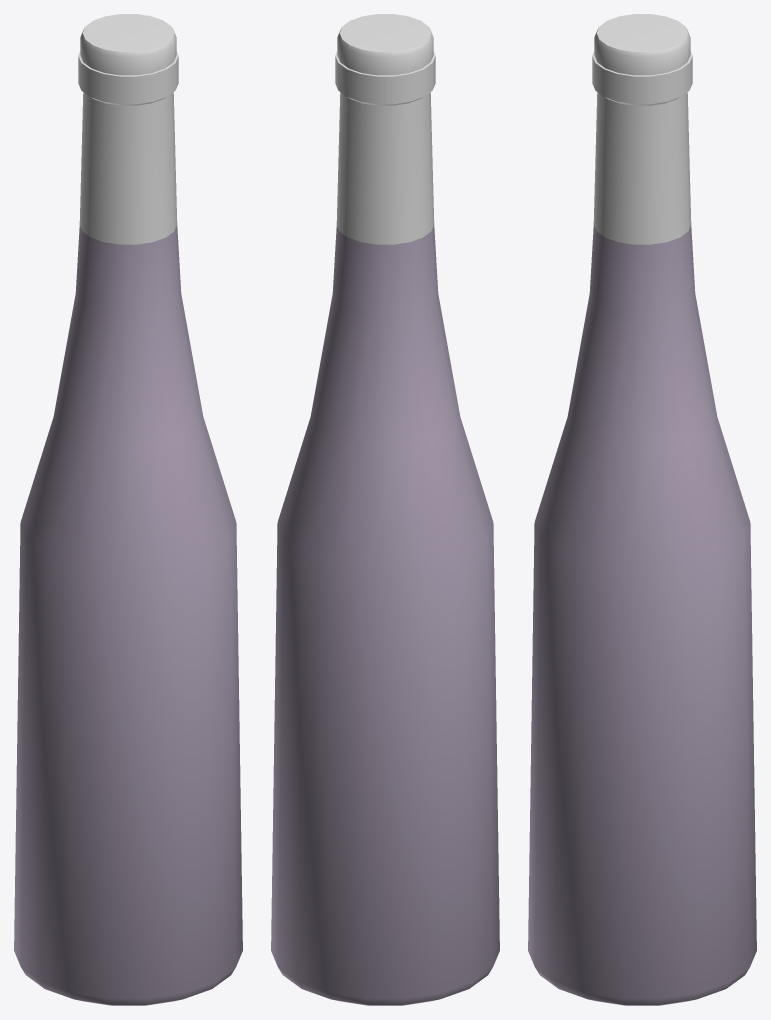
The model's file is SM_Bottle02.fbx.
The picture shows the model from 3 angles, left to right: view 1: azimuth 30°, elevation 25°; view 2: azimuth 150°, elevation 25°; view 3: azimuth 270°, elevation 25°; orthographic projection.
Visible parts, largest first — view 1: SM_Bottle02; view 2: SM_Bottle02; view 3: SM_Bottle02.
Boxes of the visible parts, x1=… form: SM_Bottle02: x1=14, y1=14, x2=242, y2=1005; SM_Bottle02: x1=271, y1=14, x2=499, y2=1005; SM_Bottle02: x1=528, y1=14, x2=756, y2=1005.
Size of what is drawn, in the model's own units: 94.79 by 434 by 96.25.
